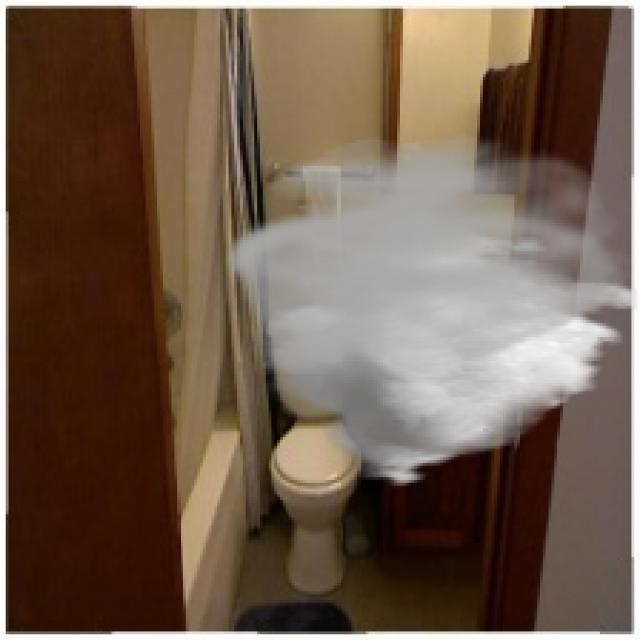Smoke: (220, 134, 637, 489)
